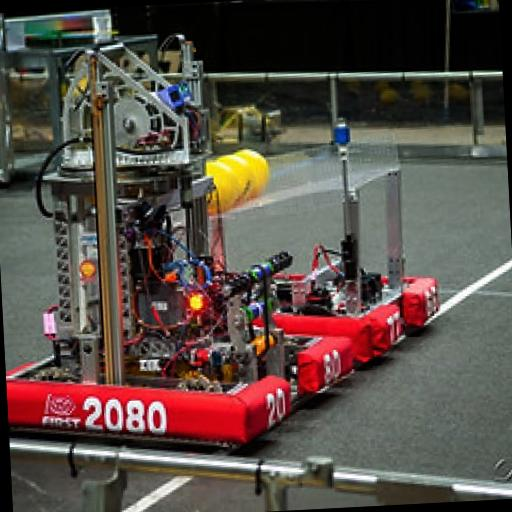robot: (0, 26, 357, 457), (206, 162, 446, 372)
